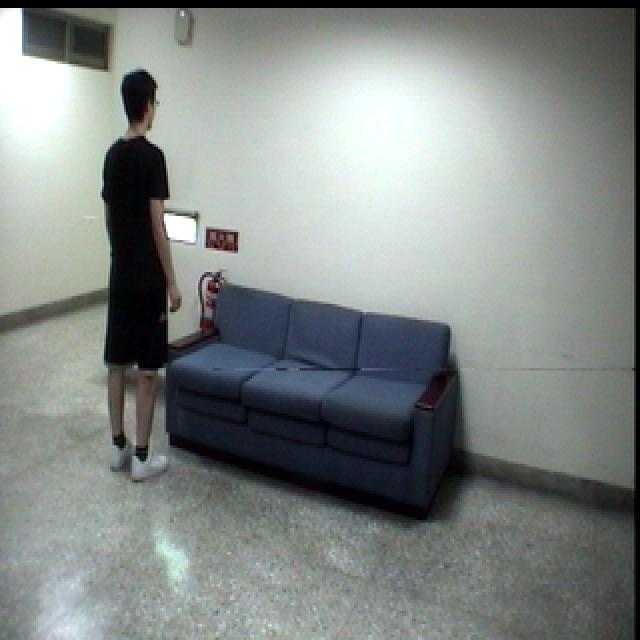stand: (96, 62, 184, 500)
